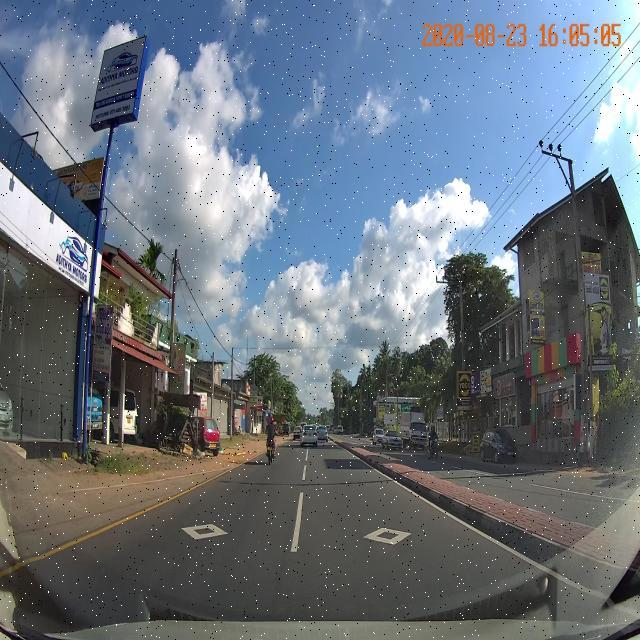diamond: (286, 511, 515, 552)
